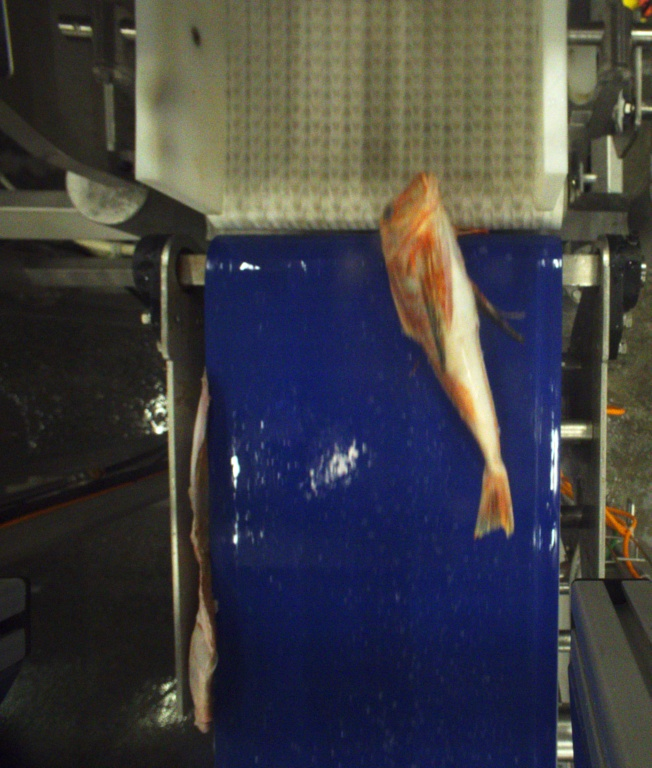GUU: (376, 170, 519, 538)
